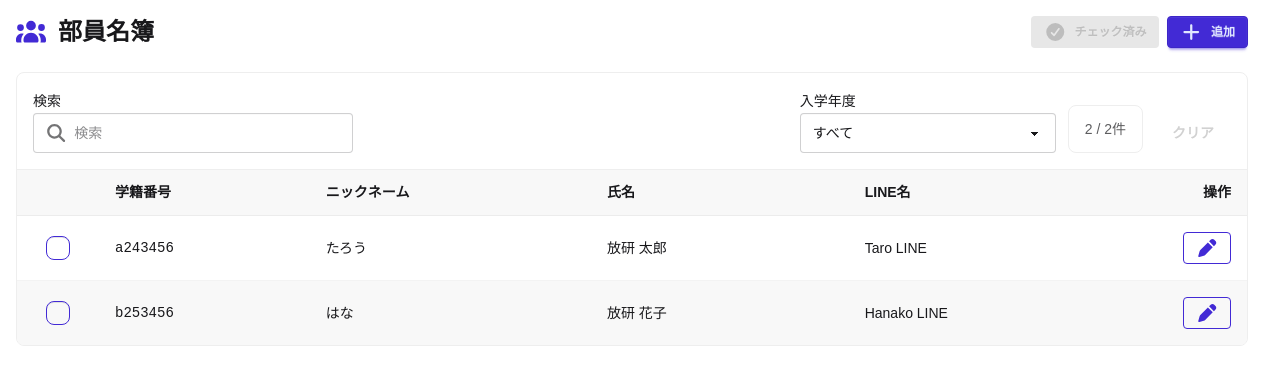
Test: MembersPage › 名簿を取得し、文字列と入学年度で絞り込む
Expected: the text "たろう" is shown, [326,240,367,256]
Expected: the text "はな" is shown, [326,304,354,320]
Type "花子" into the search field with placeholder "検索". click: (207, 133)
box: [74,114,340,152]
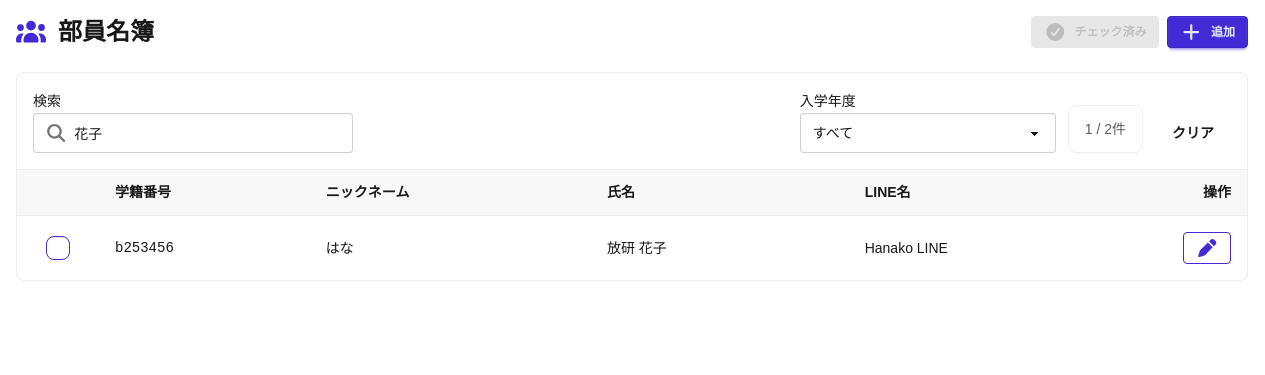
Expected: the text "はな" is shown, [326,240,354,256]
Expected: the text "たろう" is gone
Select "2024年度" in the dropdown. click: (928, 133)
box: [800,113,1056,153]
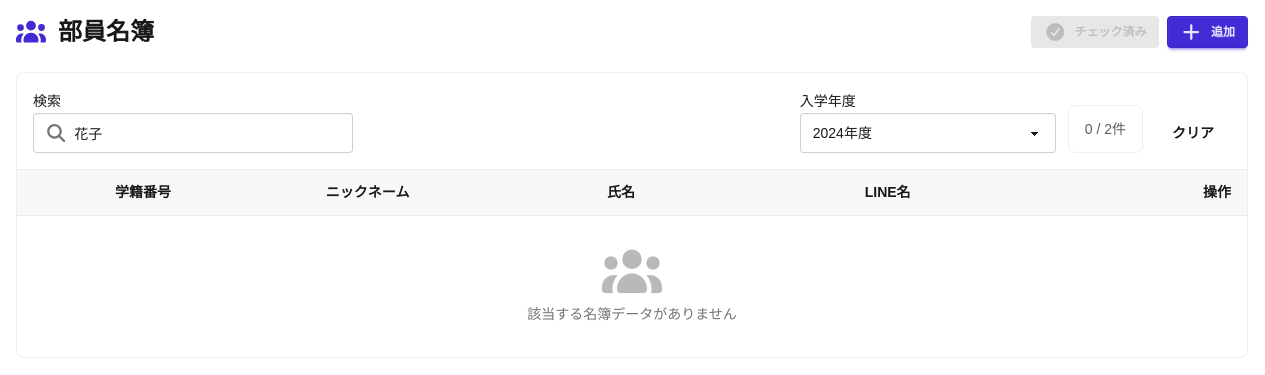
Expected: the text "該当する名簿データがありません" is shown, [527,248,737,322]
